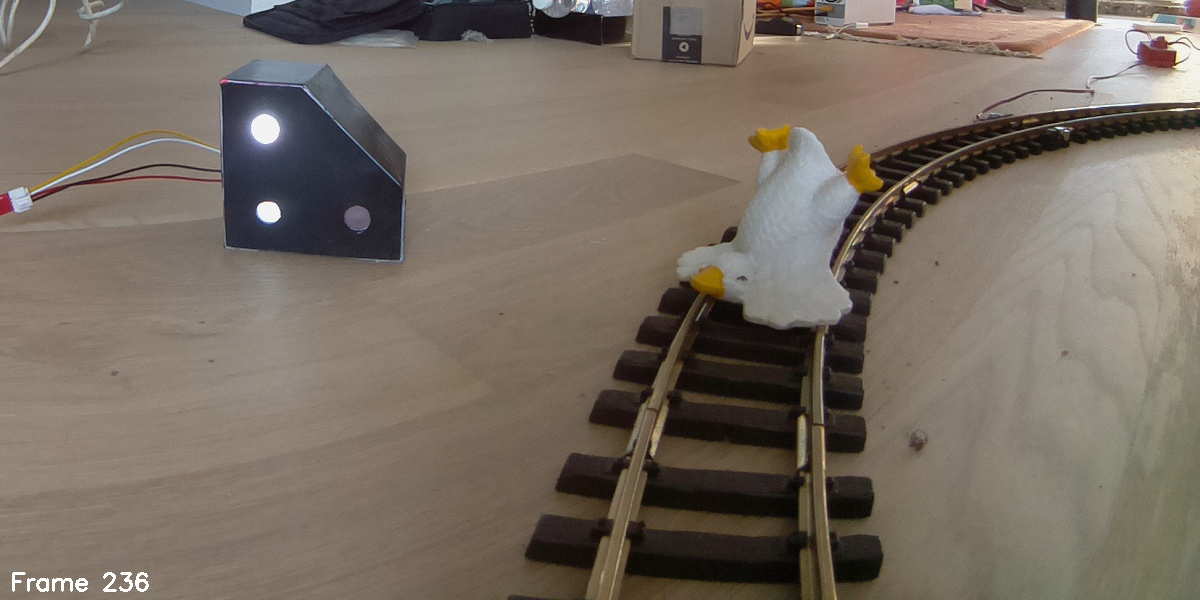Ente: (669, 122, 884, 332)
Fahrt: (222, 57, 403, 262)
